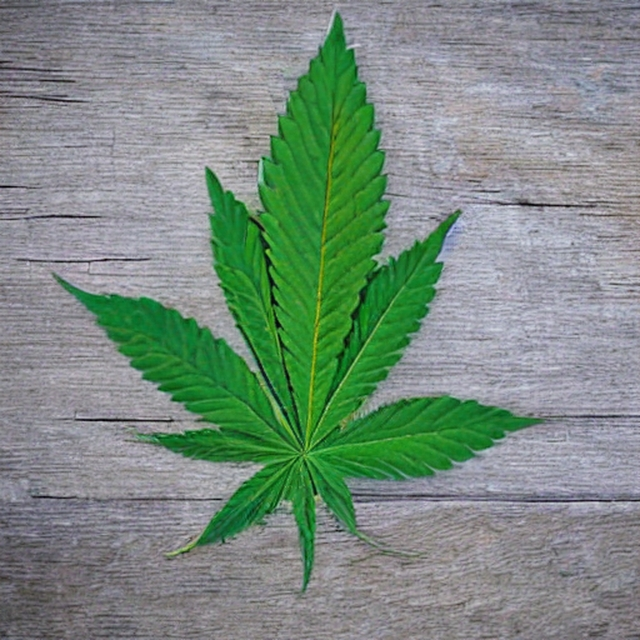Marijuana Leaf: (49, 8, 545, 594)
